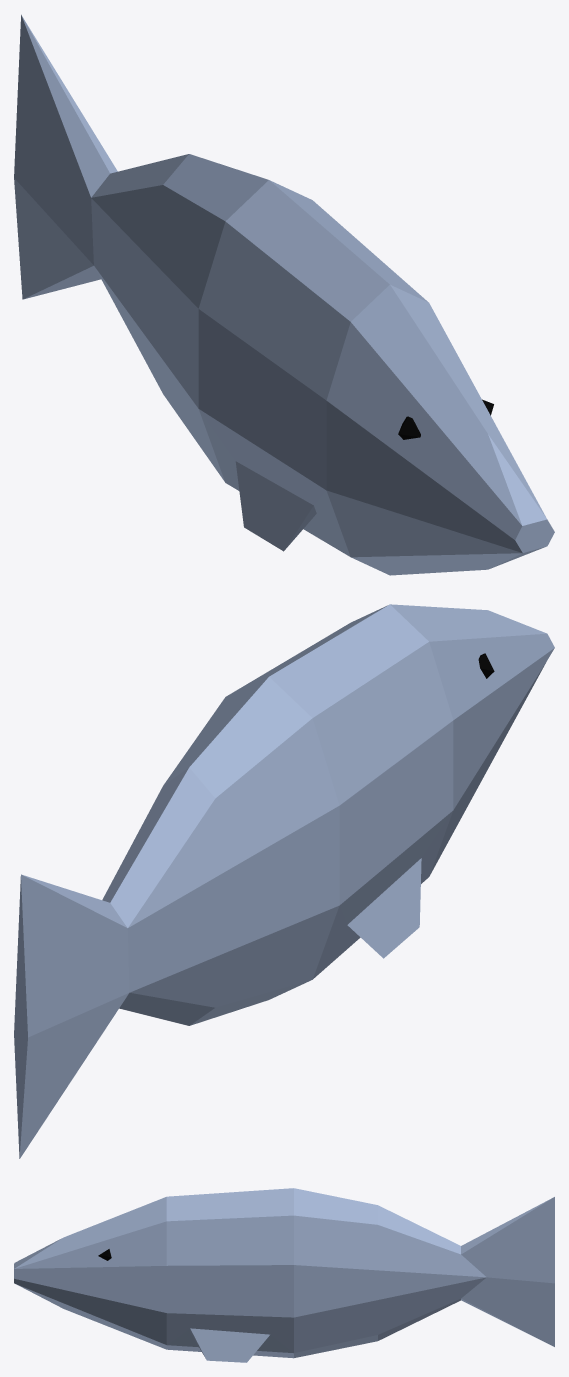
Rendered from Fish 1.fbx.
3 views of the same model, one above another, from view 1: azimuth 30°, elevation 25°; view 2: azimuth 150°, elevation 25°; view 3: azimuth 270°, elevation 25° (orthographic). The views are drawn at different scales.
Visible parts, largest first — view 1: Fish; view 2: Fish; view 3: Fish.
Boxes of the visible parts, x1=… form: Fish: x1=14, y1=14, x2=554, y2=575; Fish: x1=14, y1=604, x2=554, y2=1158; Fish: x1=14, y1=1188, x2=554, y2=1362.
Size of the model in its own units: 0.913 by 2 by 5.76.
